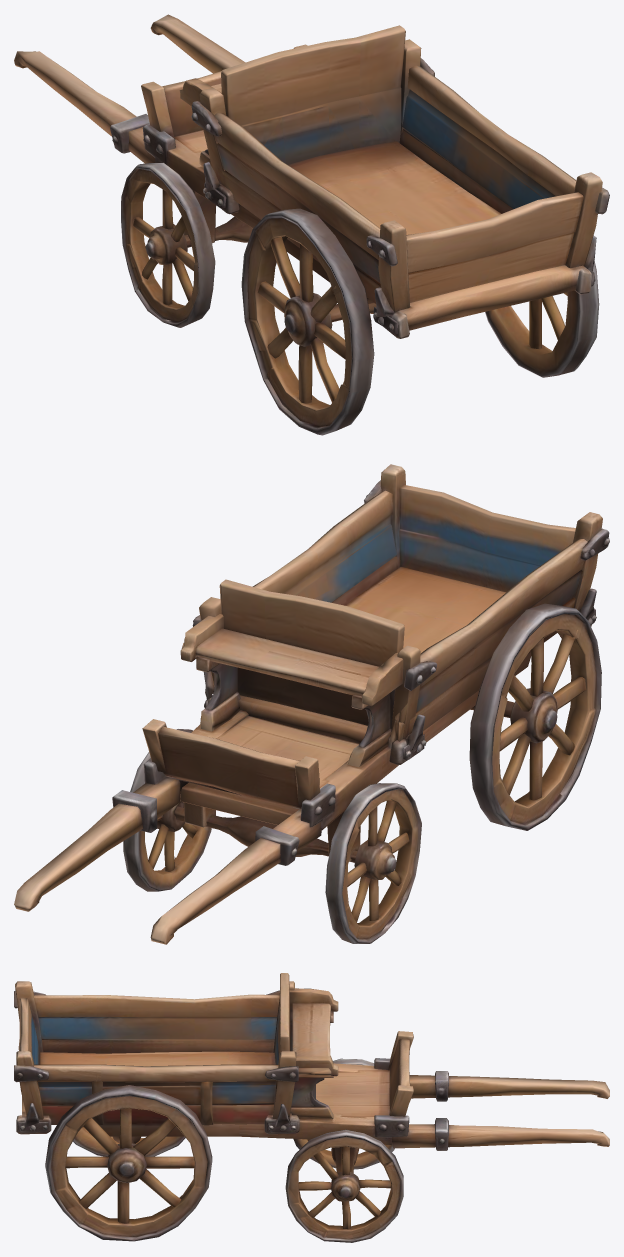
Rendered from cart.glb.
3 views of the same model, one above another, from view 1: azimuth 30°, elevation 25°; view 2: azimuth 150°, elevation 25°; view 3: azimuth 270°, elevation 25° (orthographic). The views are drawn at different scales.
Visible parts, largest first — view 1: tripo_node_0f9b7cbc-3977-4972-a434-2d789ad2b6cd; view 2: tripo_node_0f9b7cbc-3977-4972-a434-2d789ad2b6cd; view 3: tripo_node_0f9b7cbc-3977-4972-a434-2d789ad2b6cd.
Part boxes in pixels (x1,y1,x2,y2): tripo_node_0f9b7cbc-3977-4972-a434-2d789ad2b6cd: [14, 14, 609, 435]; tripo_node_0f9b7cbc-3977-4972-a434-2d789ad2b6cd: [14, 464, 609, 944]; tripo_node_0f9b7cbc-3977-4972-a434-2d789ad2b6cd: [14, 973, 609, 1242].
Size of the model in its own units: 0.373 by 0.377 by 0.998.
Materials: 1 (1 with a texture image).
